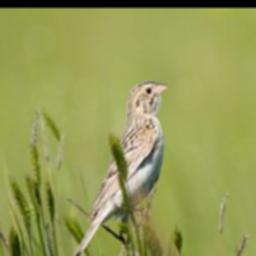Sparrow: (66, 78, 169, 256)
